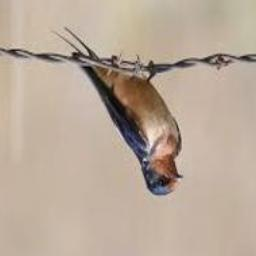Swallow: (51, 29, 185, 195)
